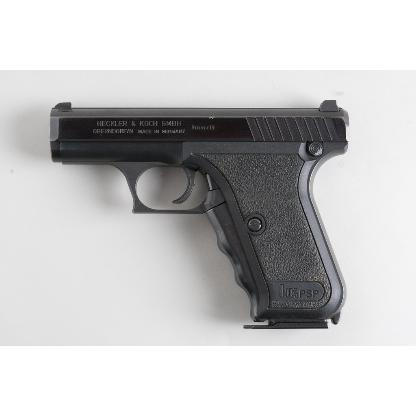gun: (49, 98, 350, 328)
